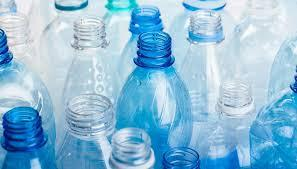Plastic bottle: (2, 2, 297, 169)
